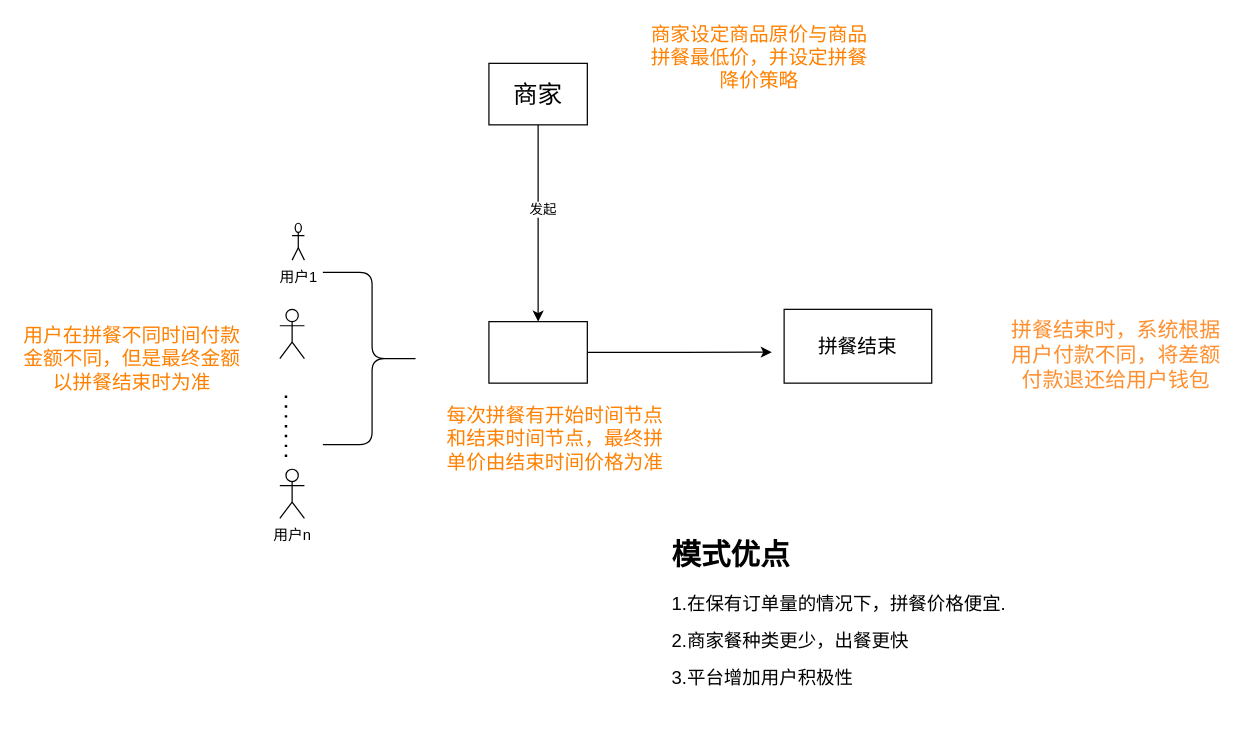
Some shapes in this 1247 by 748 pixel diagram are drawn without their labels. Here are the shapes that lost their labels. From the top down, the box of each, then its label:
(279, 308, 304, 359): 用户2
(488, 320, 587, 383): 拼餐
